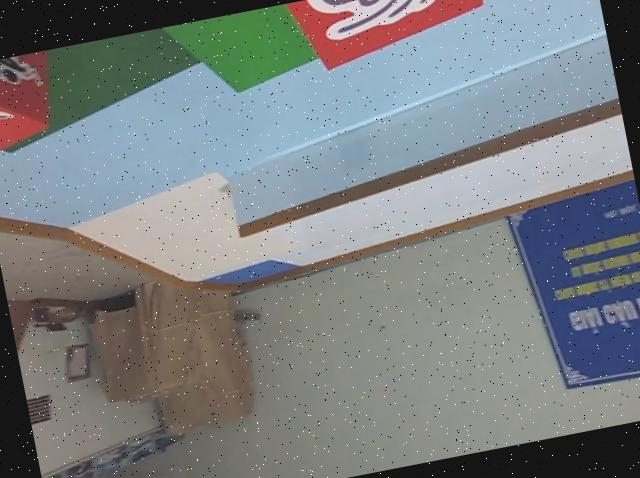R1: (0, 49, 62, 172)
R2 Fake: (258, 0, 509, 86)
